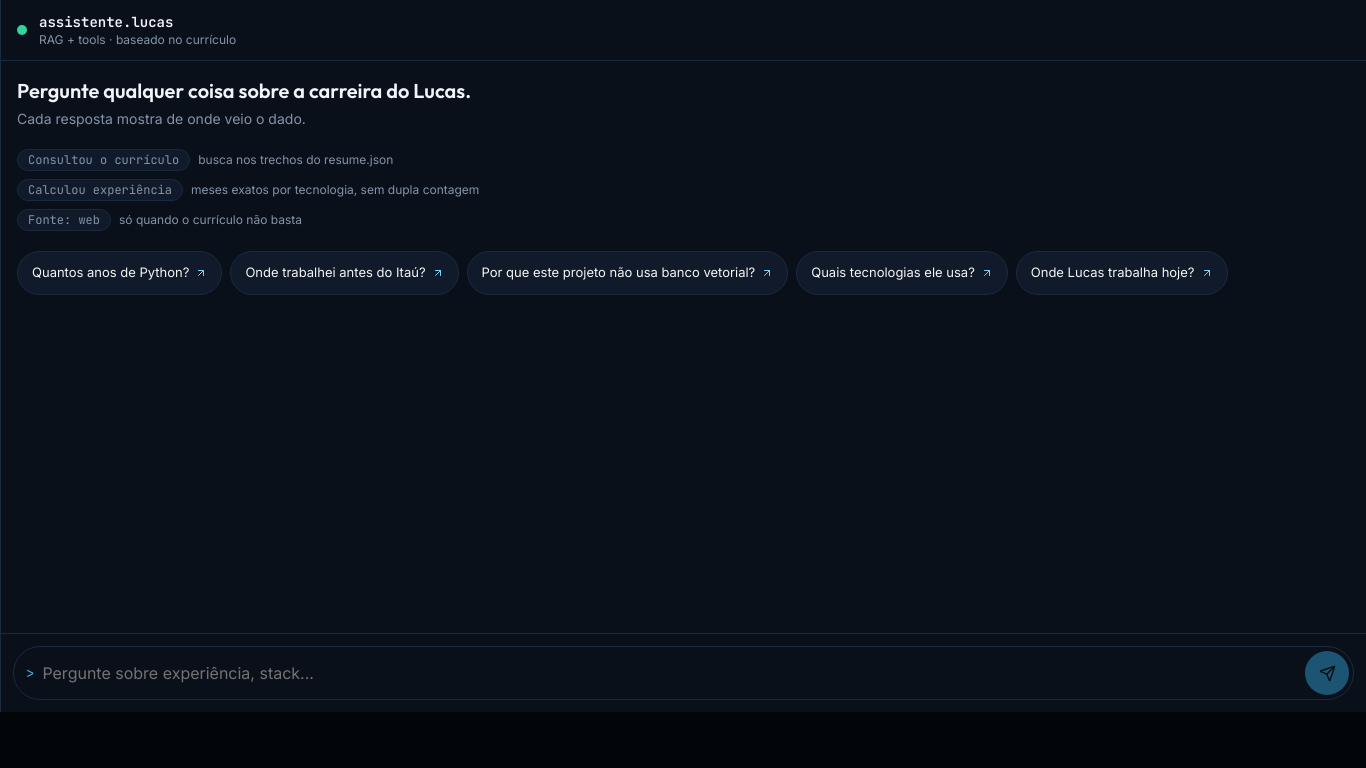
Test: ChatAside › resposta sem tools (pipeline determinístico) mostra texto e selo, sem chips
In the field named "pergunte ao assistente sobre a carreira": coordinates (670, 673) left=42, top=651, right=1297, bottom=695, type "Onde Lucas trabalha hoje?"
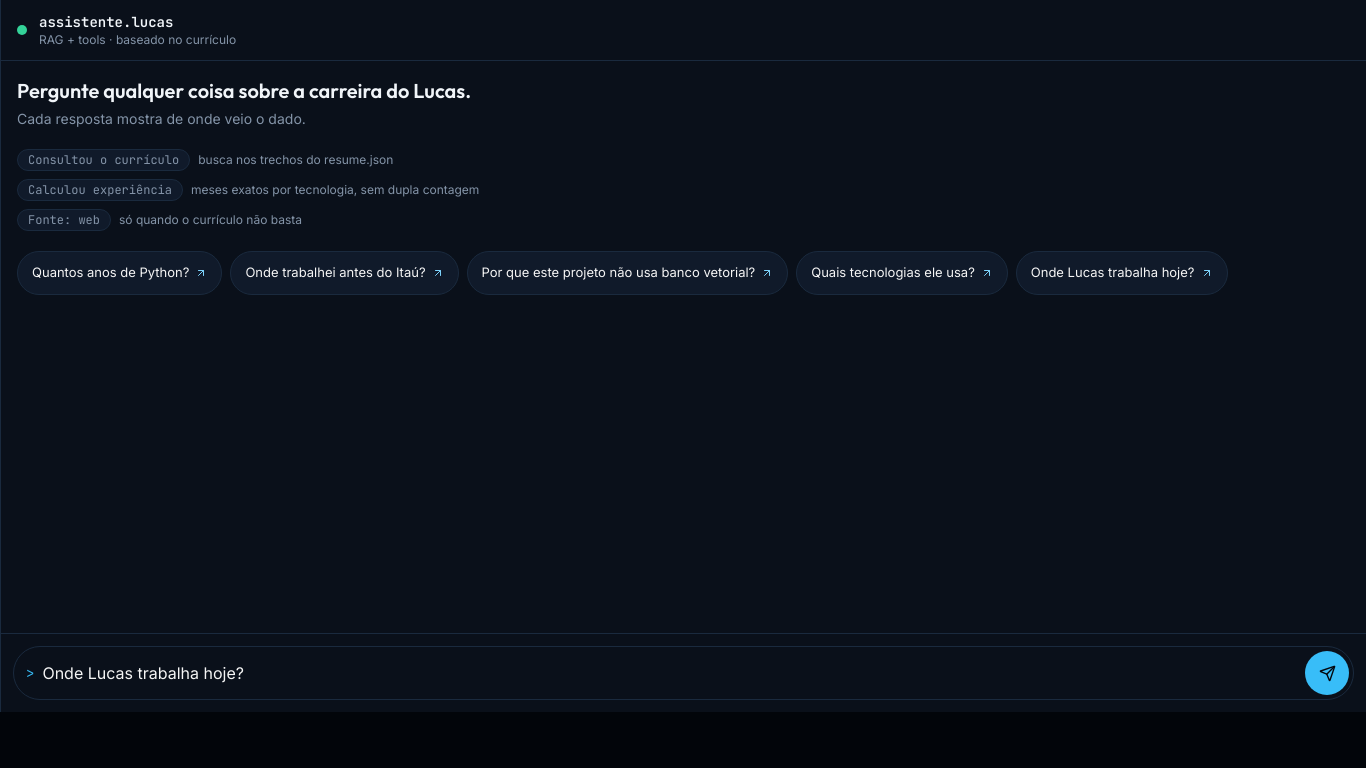
Click the button named "Enviar pergunta": coordinates (1327, 673) left=1305, top=651, right=1349, bottom=695
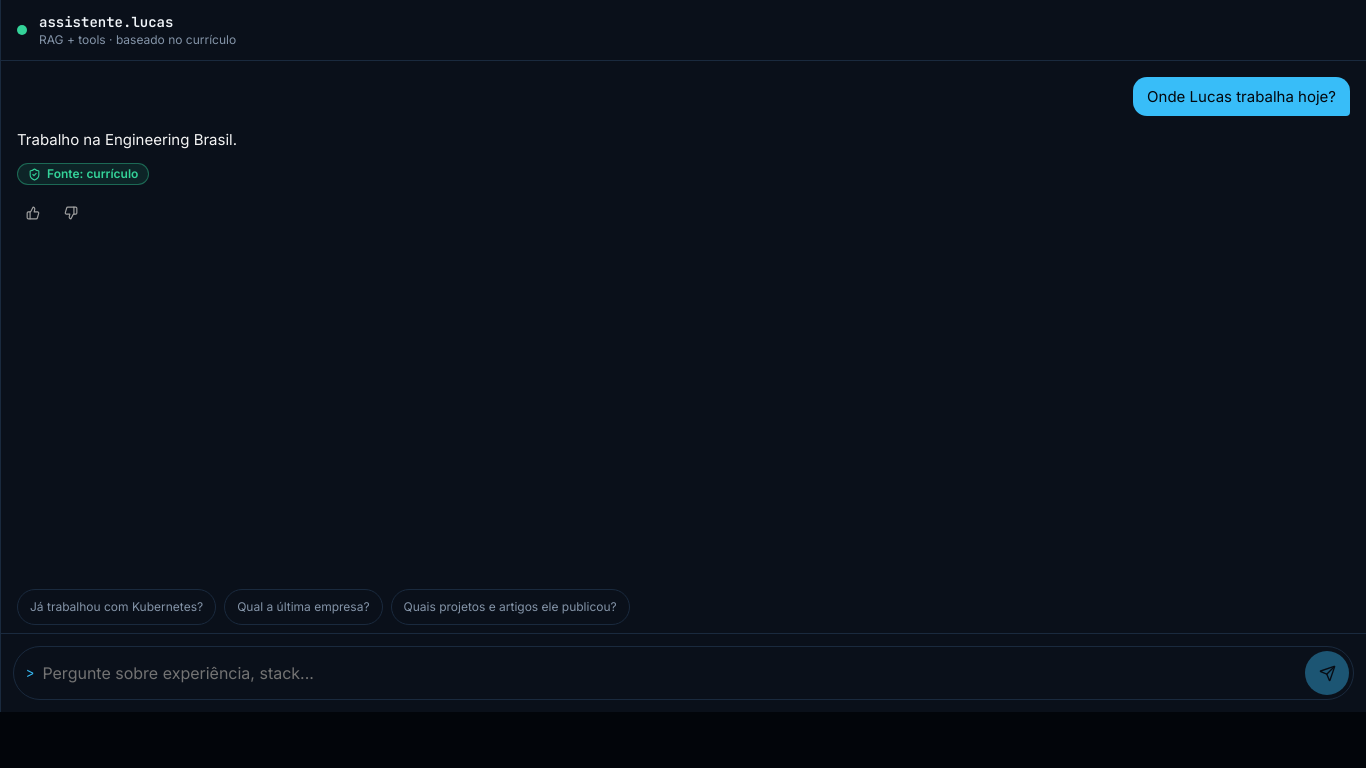
Expected: the text "Trabalho na Engineering Brasil." is shown, left=17, top=130, right=237, bottom=149
Expected: the text "Fonte: currículo" is shown, left=17, top=163, right=149, bottom=185
